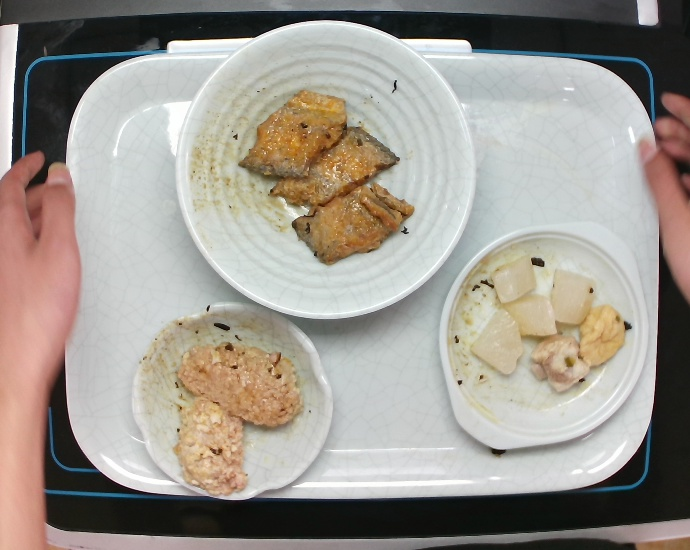JYsf-Ao_Yuan_Wan: (125, 292, 340, 507)
JYsf-Shuang_Er_Pan: (434, 210, 654, 457)
JYsf-Xiao_Tang_Wan: (170, 18, 480, 325)
